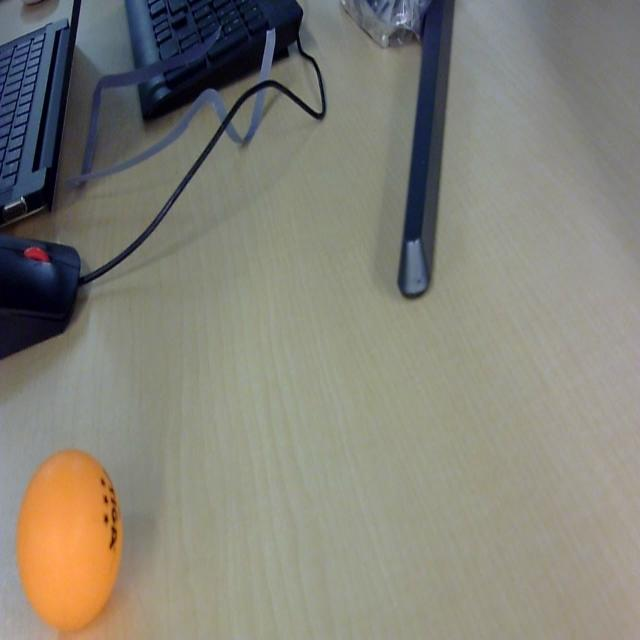ball: (15, 445, 124, 635)
